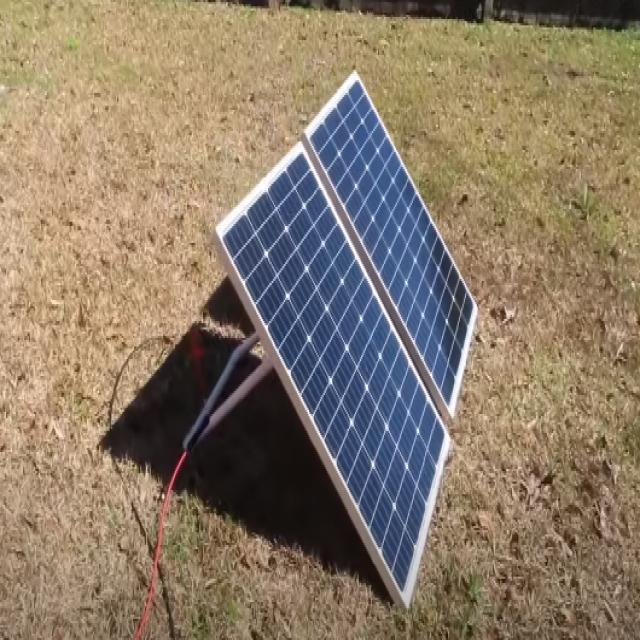Normal Solar Panel: (217, 72, 477, 606)
